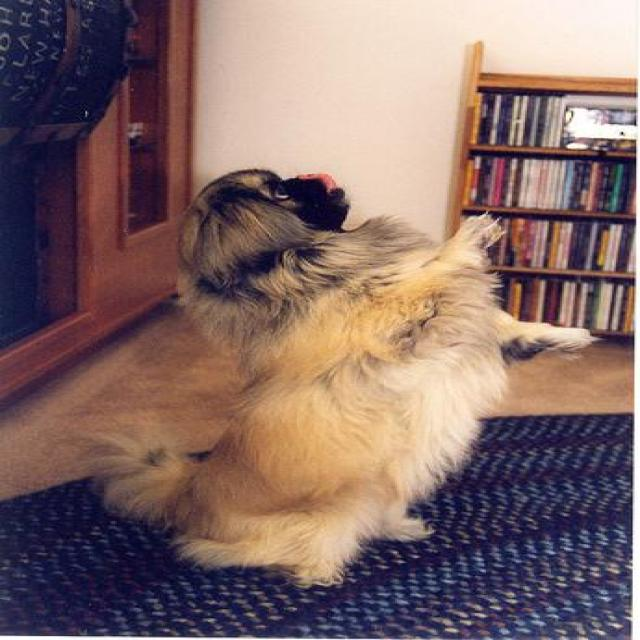pekinese: (93, 160, 590, 584)
